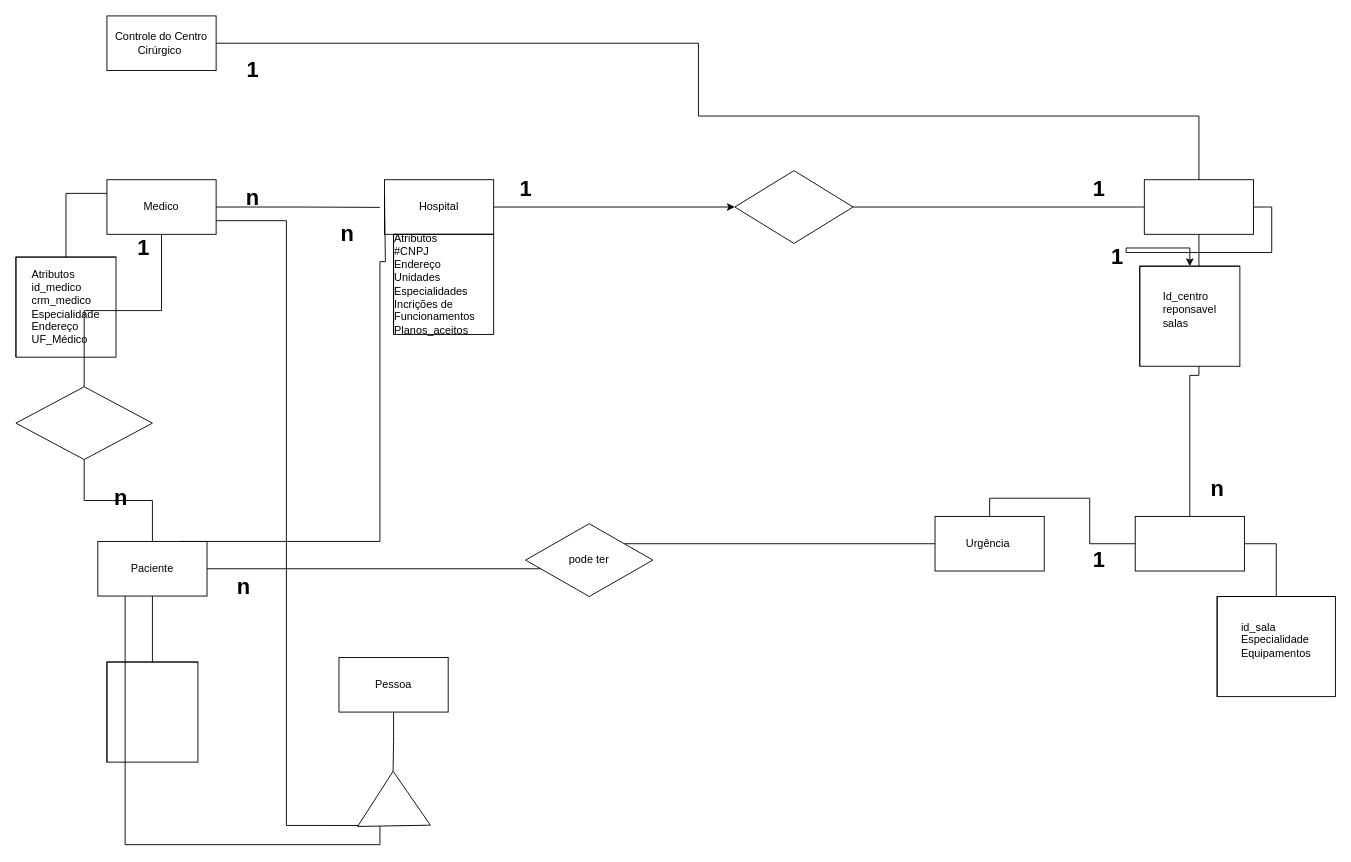
Some shapes in this 1351 by 862 pixel diagram are drawn without their labels. Each missing label, with the centre of its shape:
"Atributos id_paciente nome_paciente sexo_paciente data_nacimento" goes at [152,711].
"Centro Cirúrgico" goes at [1198,206].
"Consulta" goes at [83,423].
"Encaminha/Tem" goes at [793,206].
"Salas Cirúrgicas" goes at [1189,543].
